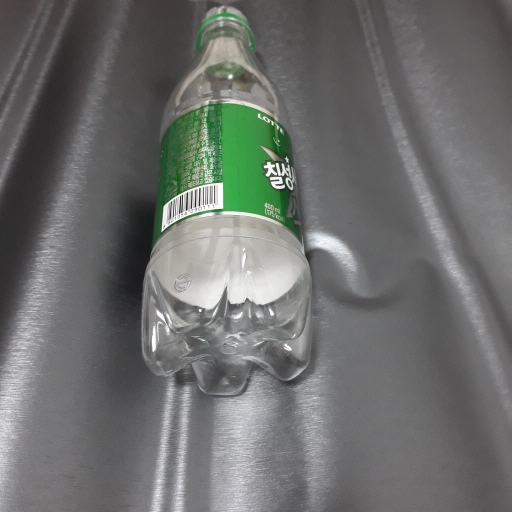Plastic_0: (141, 3, 315, 397)
